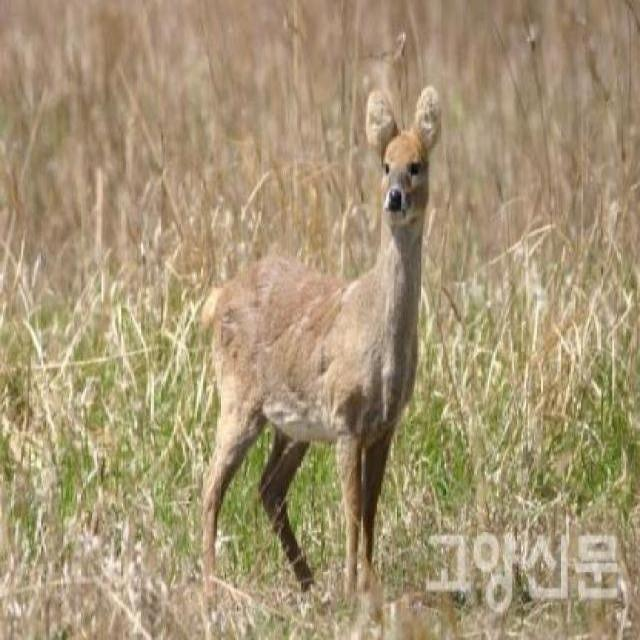deer: (173, 61, 433, 604)
